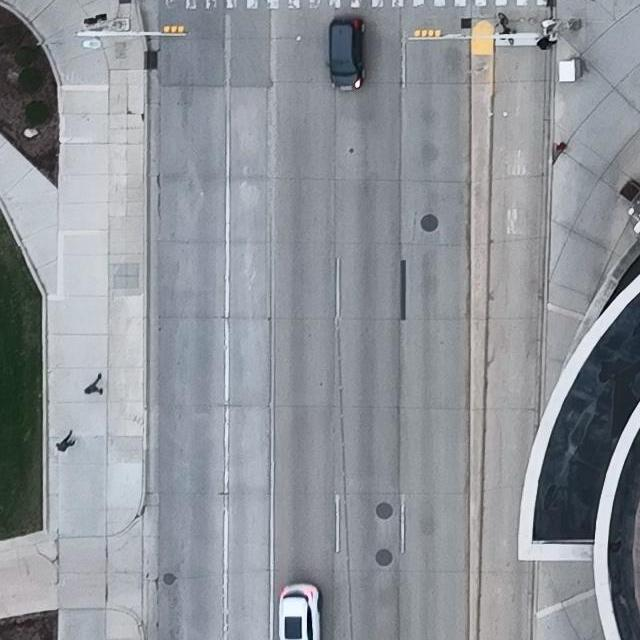car: (326, 16, 366, 92), (278, 583, 322, 640)
